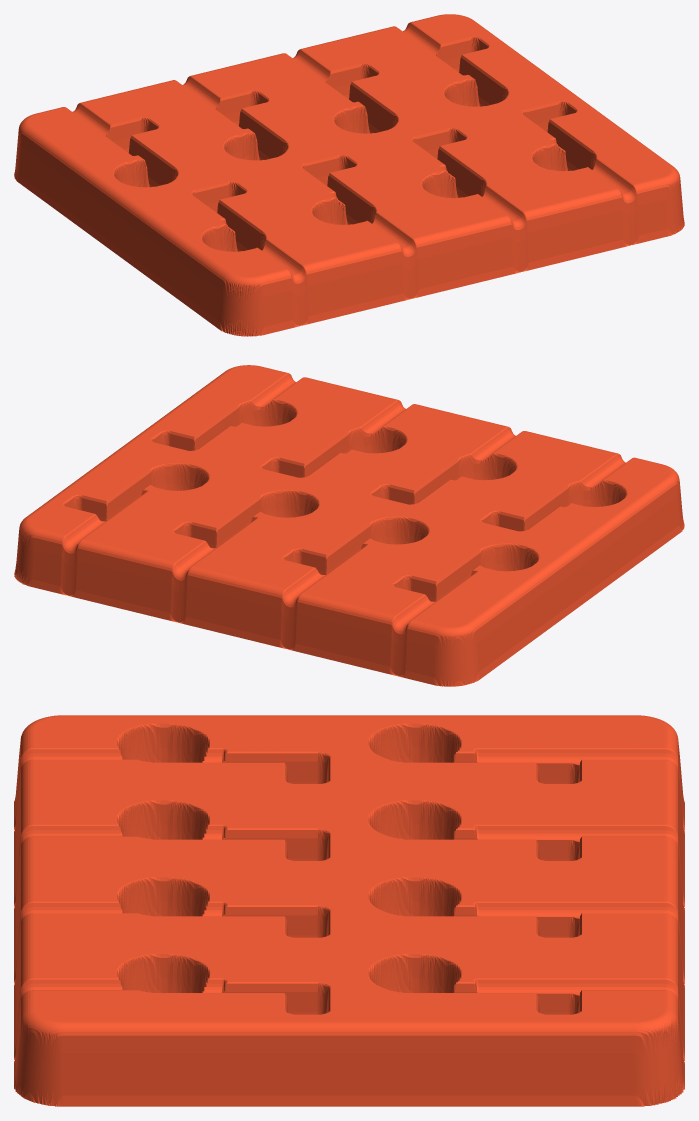
Rendered from mold.glb.
3 views of the same model, one above another, from view 1: azimuth 30°, elevation 25°; view 2: azimuth 150°, elevation 25°; view 3: azimuth 270°, elevation 25° (orthographic). The views are drawn at different scales.
Visible parts, largest first — view 1: geometry_0; view 2: geometry_0; view 3: geometry_0.
Part boxes in pixels (box(x1,y1,x2,y2)): geometry_0: box(14, 14, 684, 336); geometry_0: box(14, 365, 684, 686); geometry_0: box(14, 715, 684, 1106).
Bounding box in the file's own units: 0.1395 × 0.0155 × 0.1229.
